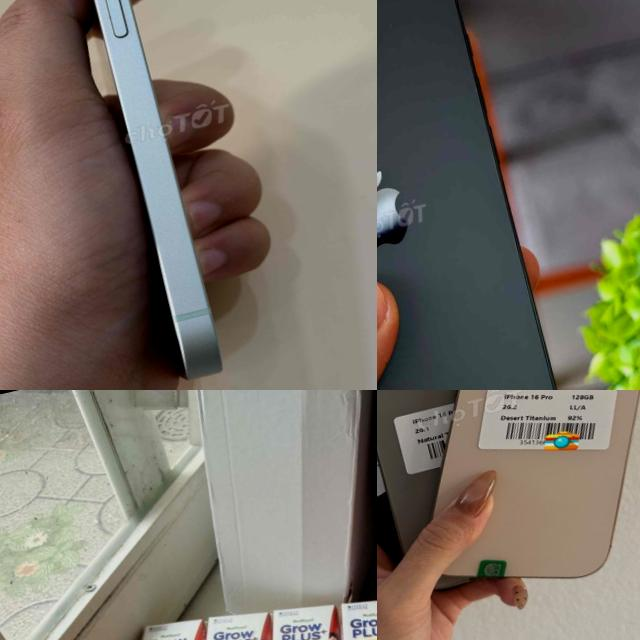gen_12_13: (45, 0, 246, 390)
gen_16: (377, 0, 578, 390), (377, 390, 640, 621)
